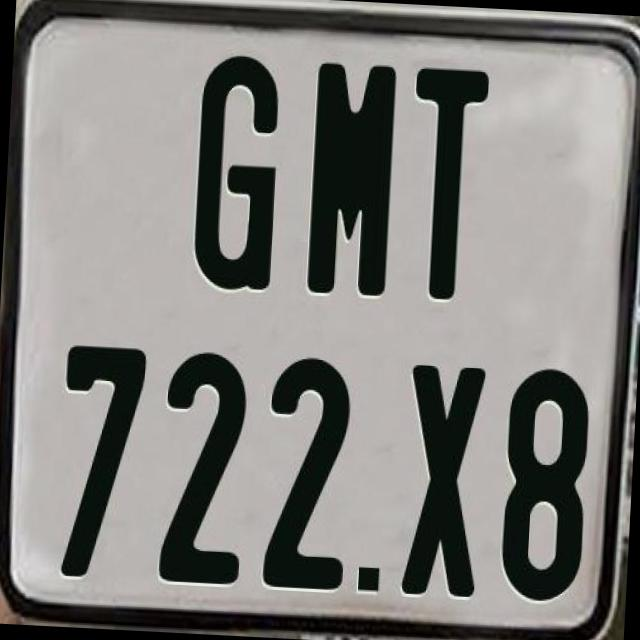2: (158, 350, 258, 588), (261, 356, 355, 600)
7: (55, 342, 146, 579)
8: (498, 362, 597, 601)
G: (192, 49, 284, 294)
M: (305, 61, 396, 304)
T: (402, 66, 492, 304)
X: (400, 360, 486, 602)
